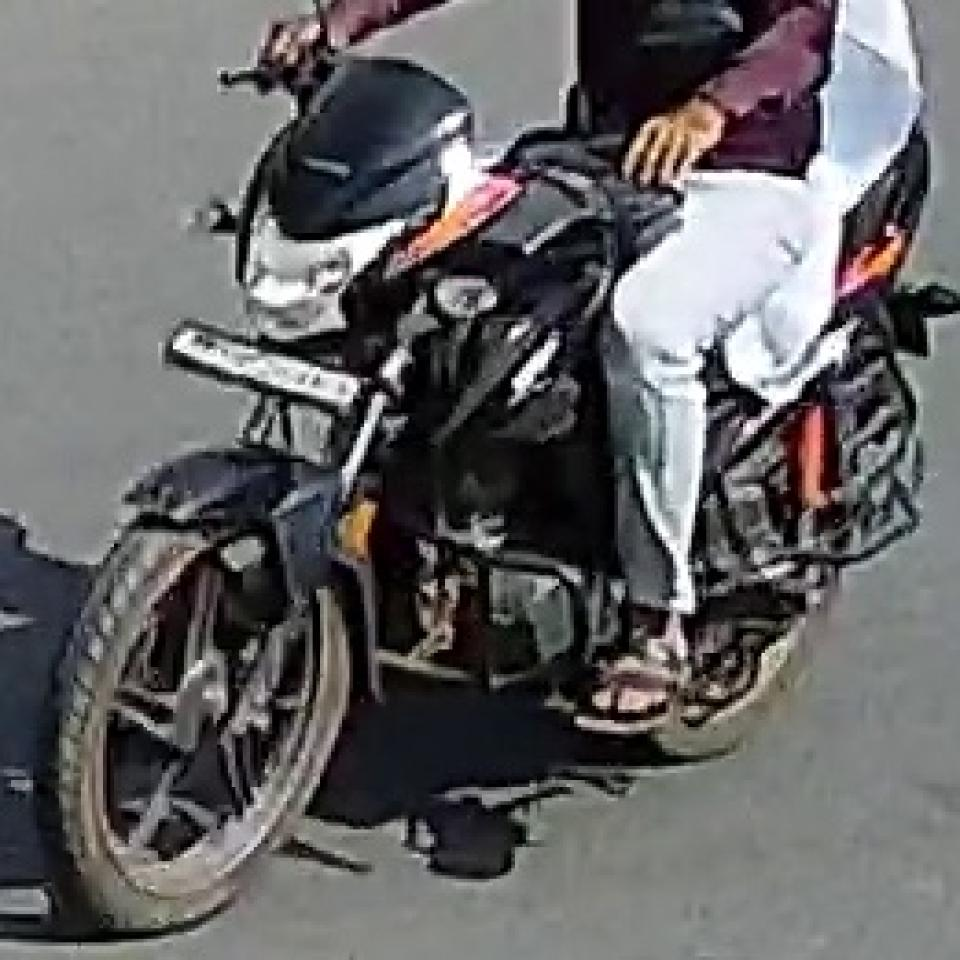head_light: (227, 194, 413, 340)
